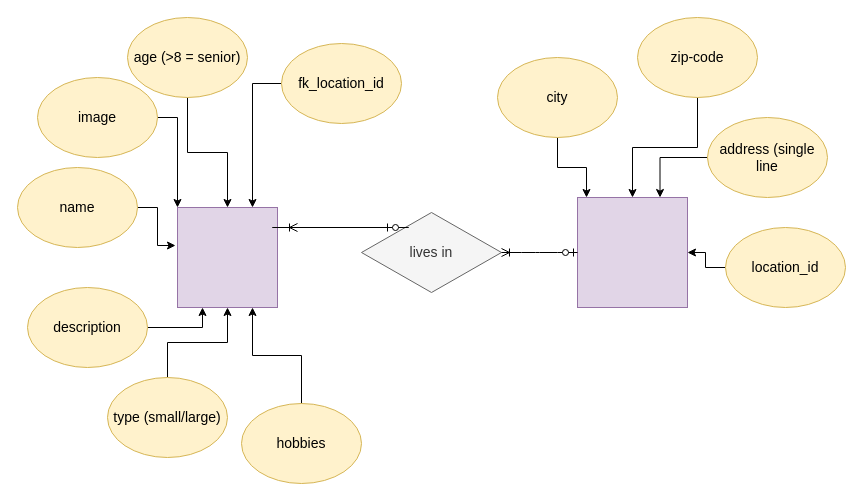
The diagram is 863 pixels wide and 501 high, and some of its shapes have lost their labels. The centre of each missing label's shape, as x and y in pixels:
animal: the point at 227,257
location: the point at 632,252
